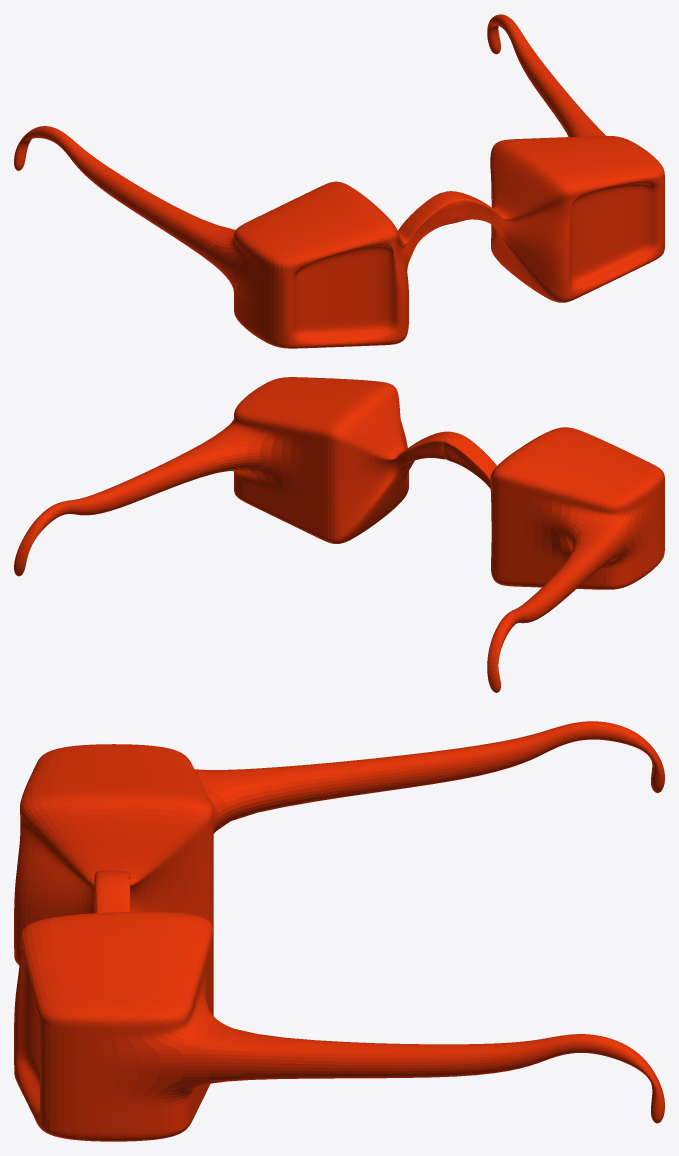
The model's file is glassesV2.fbx.
The picture shows the model from 3 angles, top to bottom: view 1: azimuth 30°, elevation 25°; view 2: azimuth 150°, elevation 25°; view 3: azimuth 270°, elevation 25°; orthographic projection. The views are drawn at different scales.
Parts seen in each view (by area): view 1: Cube; view 2: Cube; view 3: Cube.
Part boxes in pixels (x1=…): Cube: x1=14, y1=14, x2=664, y2=348; Cube: x1=14, y1=377, x2=664, y2=692; Cube: x1=14, y1=721, x2=664, y2=1141.
Size of the model in its own units: 764 by 189 by 626.
